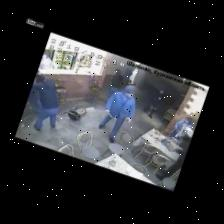person: (99, 87, 135, 143), (156, 136, 191, 180), (33, 75, 59, 131), (168, 118, 192, 140), (107, 69, 122, 99)
